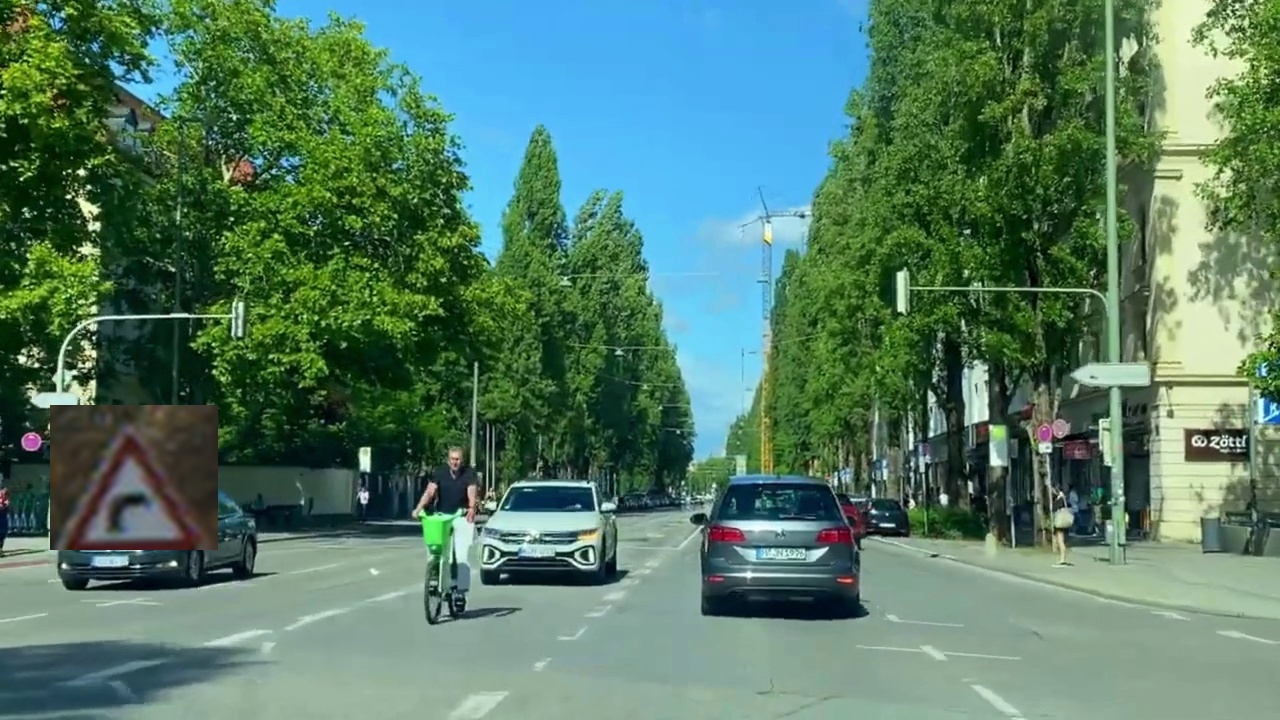Curve right: (50, 405, 218, 550)
